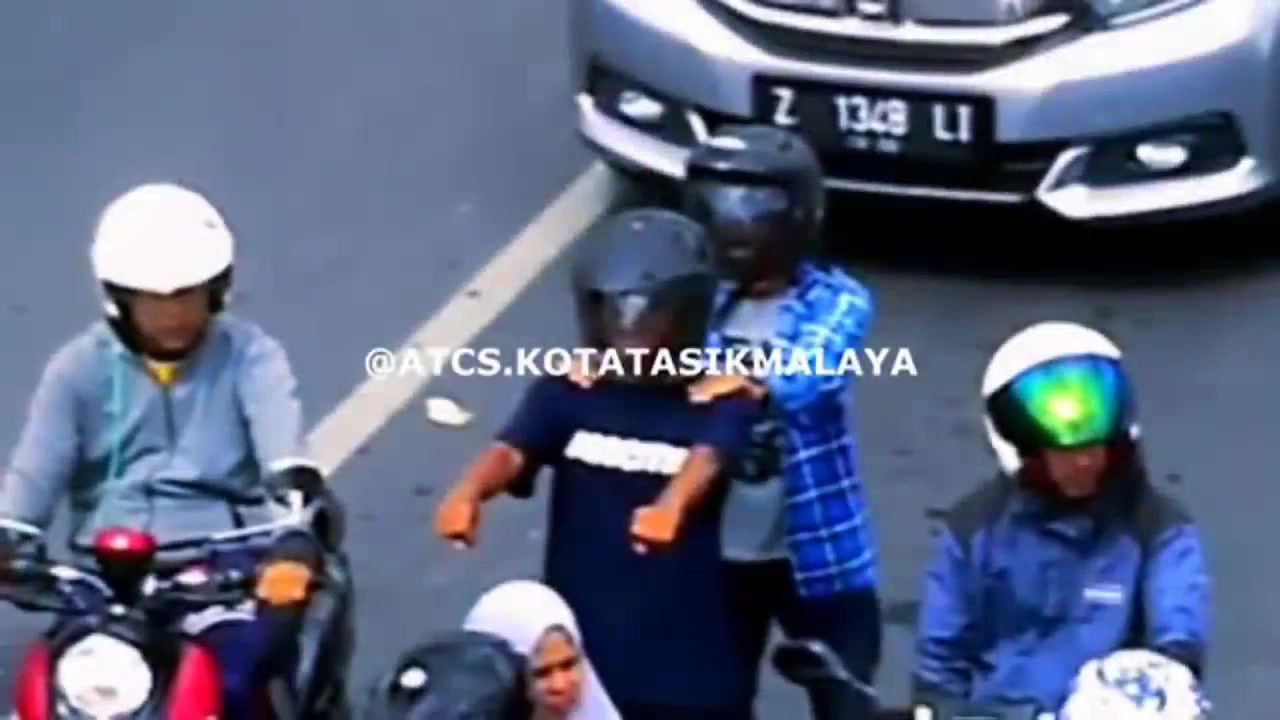person with helmet: (955, 286, 1172, 536), (65, 168, 256, 403), (546, 199, 736, 408), (662, 113, 853, 299)
person with motorcycle: (16, 146, 338, 720), (916, 268, 1210, 720)
person without motorcycle: (462, 109, 886, 586)
